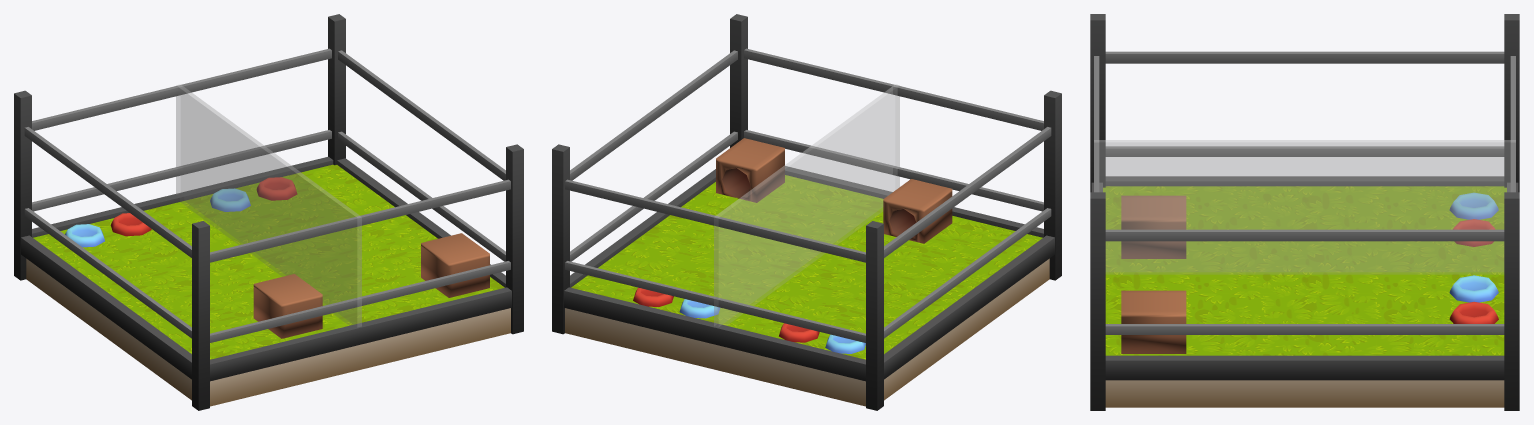
The model's file is cage.fbx.
The picture shows the model from 3 angles, left to right: view 1: azimuth 30°, elevation 25°; view 2: azimuth 150°, elevation 25°; view 3: azimuth 270°, elevation 25°; orthographic projection. The views are drawn at different scales.
Parts seen in each view (by area): view 1: Cube.303, Cube.310, Cube.314; view 2: Cube.303, Cube.310, Cube.314; view 3: Cube.303, Cube.314, Cube.310.
Part boxes in pixels (box(x1,y1,x2,y2)): Cube.303: box(14, 14, 523, 410); Cube.310: box(33, 164, 504, 359); Cube.314: box(176, 84, 361, 326); Cube.303: box(552, 14, 1061, 410); Cube.310: box(571, 175, 1042, 359); Cube.314: box(714, 84, 899, 326); Cube.303: box(1090, 14, 1519, 410); Cube.314: box(1094, 140, 1515, 274); Cube.310: box(1103, 186, 1506, 355).
Bounding box in the file's own units: 105 × 56.31 × 103.
3 materials, 2 textured.
